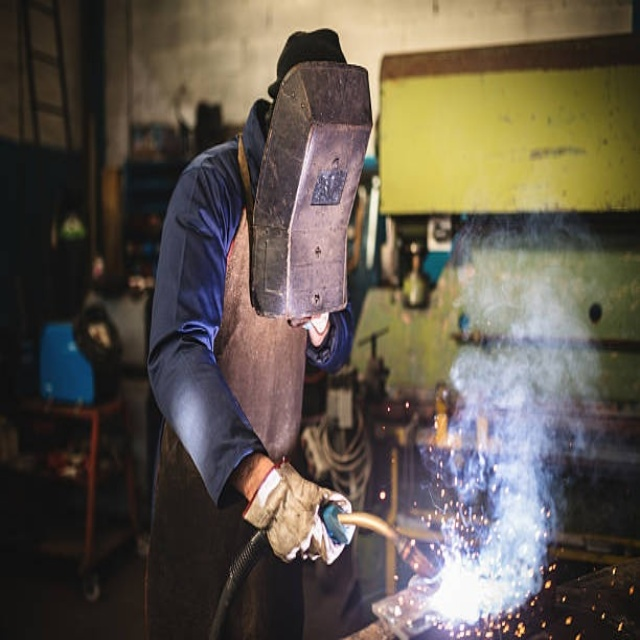Guantes: (241, 459, 354, 565)
